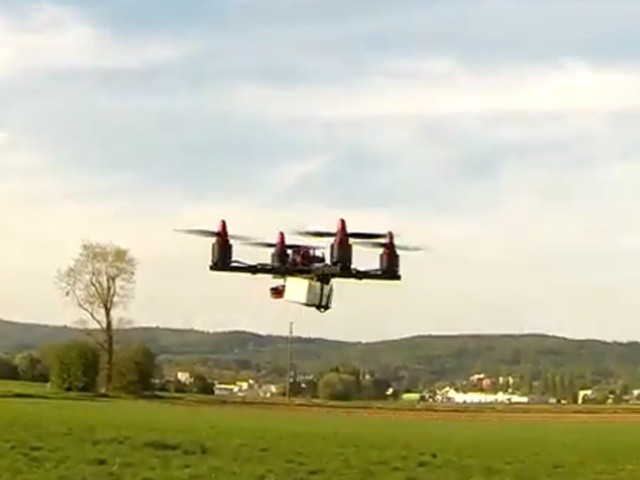drone: (176, 209, 431, 318)
